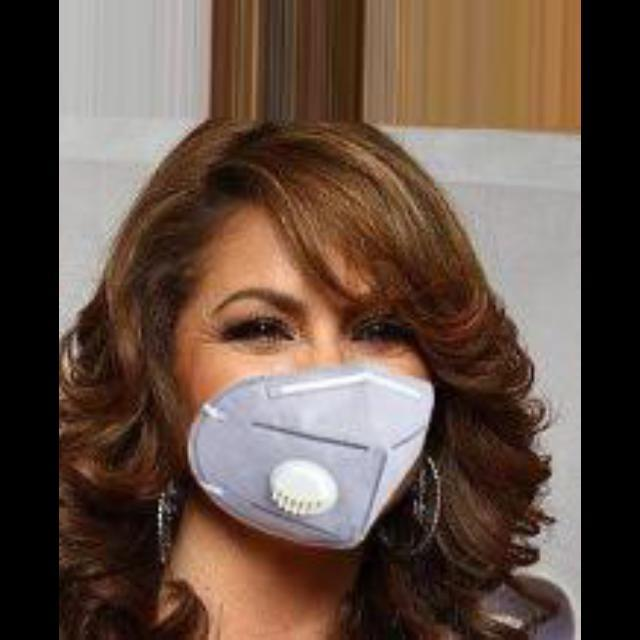suspicion: (140, 106, 506, 604)
